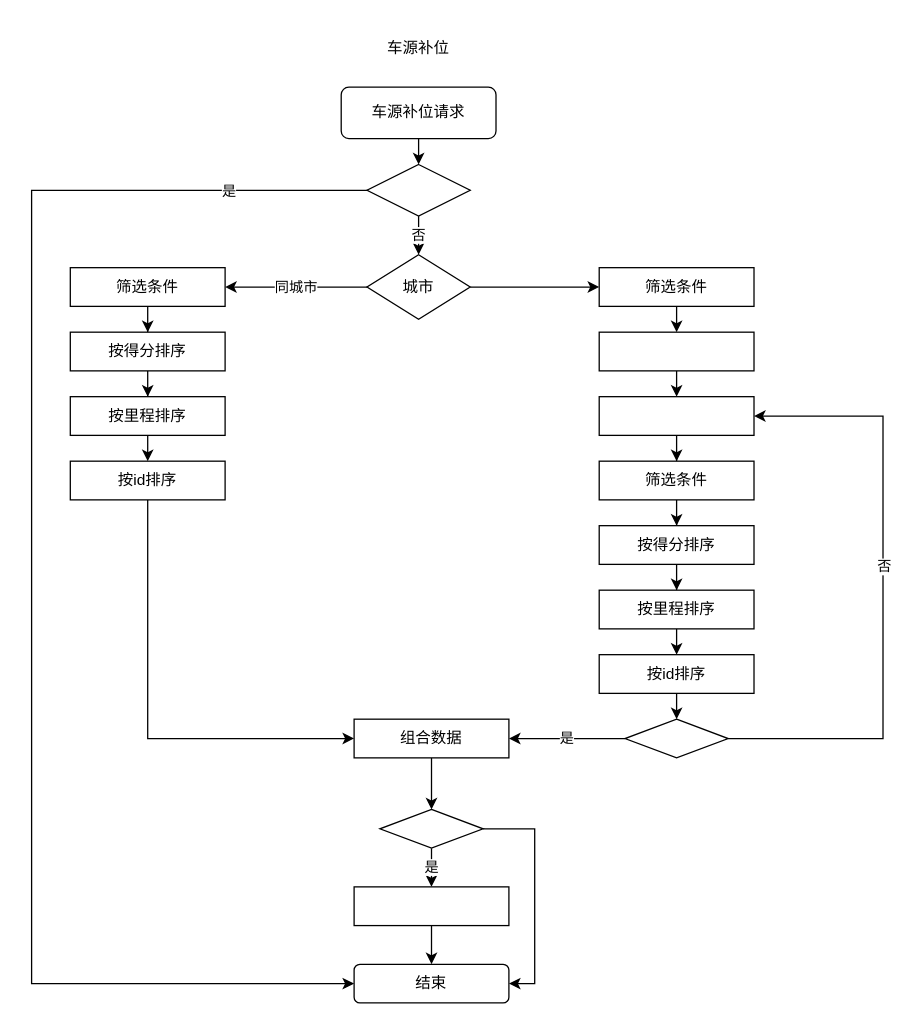
This 916x1026 diagram has some shape labels left out. The shapes that lost their labels are listed below. From the top down, each one's box as (x1, y1, x2, y2) in pixels, then its label:
(366, 163, 470, 216): 是否有缓存
(598, 331, 754, 371): mysql数据库查询周边城市
(598, 395, 754, 435): 按城市距离顺序循环
(624, 718, 728, 758): 数量够
(379, 808, 483, 848): 是否有数据
(353, 886, 509, 926): 写入缓存
